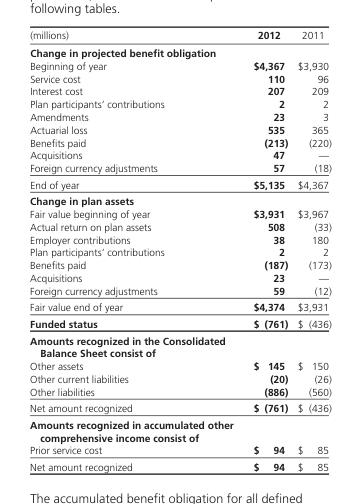table: (29, 28, 330, 472)
table column: (29, 28, 208, 472), (208, 28, 292, 472), (292, 28, 330, 472)
table column header: (29, 28, 330, 43)
table projected row header: (29, 331, 330, 359), (29, 416, 330, 443), (29, 43, 330, 59), (29, 192, 330, 207)
table row: (29, 331, 330, 359), (29, 416, 330, 443), (29, 175, 330, 192), (29, 298, 330, 315), (29, 399, 330, 416), (29, 43, 330, 59), (29, 315, 330, 331), (29, 28, 330, 43), (29, 192, 330, 207), (29, 283, 330, 298), (29, 384, 330, 399), (29, 443, 330, 458), (29, 161, 330, 175), (29, 458, 330, 472), (29, 71, 330, 84), (29, 84, 330, 97), (29, 97, 330, 110), (29, 122, 330, 135), (29, 135, 330, 148), (29, 148, 330, 161), (29, 219, 330, 232), (29, 232, 330, 245), (29, 245, 330, 258), (29, 258, 330, 271), (29, 371, 330, 384), (29, 59, 330, 71), (29, 110, 330, 122), (29, 207, 330, 219), (29, 271, 330, 283), (29, 359, 330, 371)
